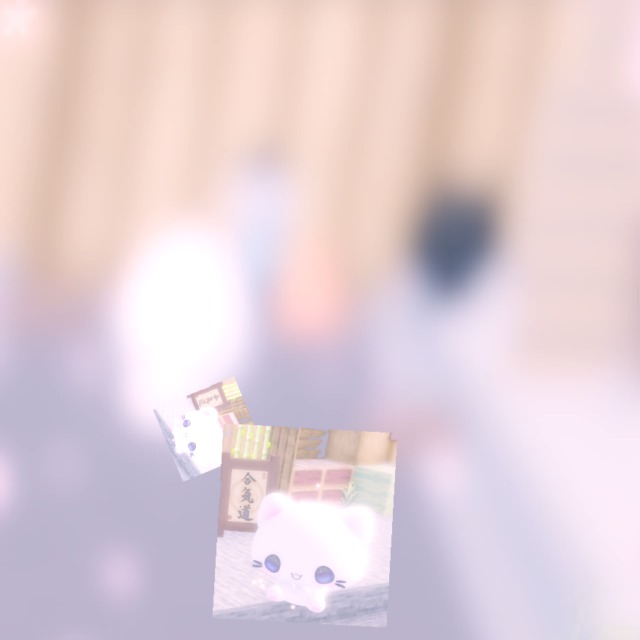urso_branco: (212, 423, 398, 628), (153, 376, 264, 482)
